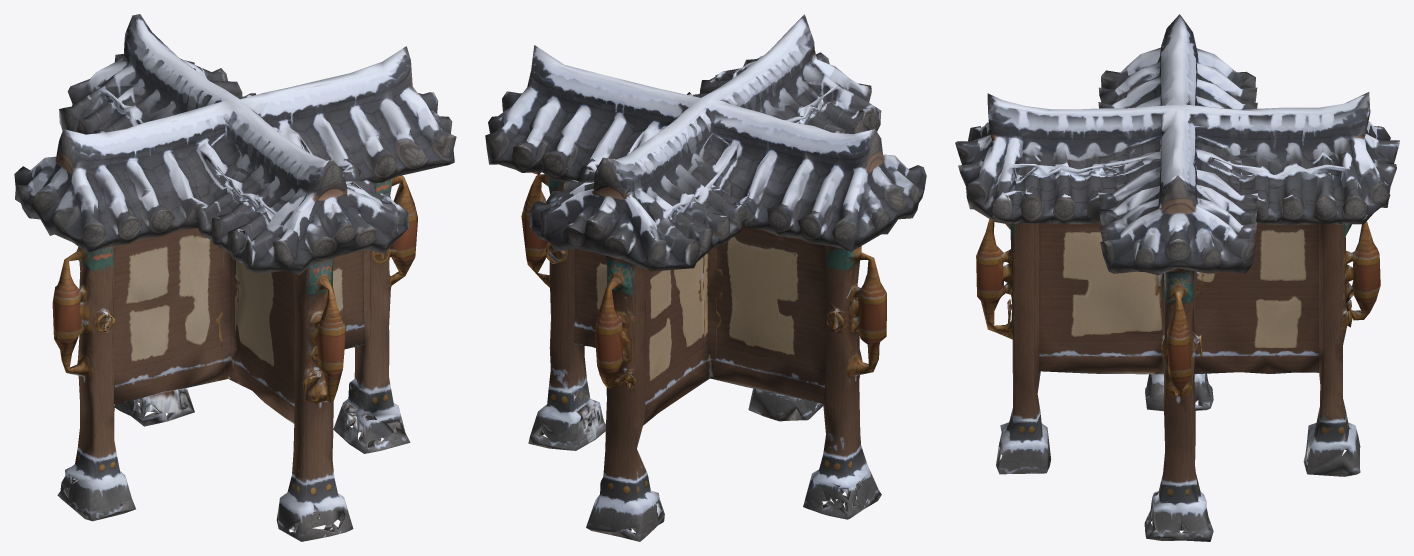
The model's file is PR_GwaeseoBoard.fbx.
3 views of the same model, side by side, from view 1: azimuth 30°, elevation 25°; view 2: azimuth 150°, elevation 25°; view 3: azimuth 270°, elevation 25° (orthographic). The views are drawn at different scales.
Visible parts, largest first — view 1: texture_mapping; view 2: texture_mapping; view 3: texture_mapping.
Part boxes in pixels (x1,y1,x2,y2): texture_mapping: (14,14,456,541); texture_mapping: (485,14,926,541); texture_mapping: (955,14,1399,541).
Bounding box in the file's own units: 1 × 1 × 0.9266.
1 material, 1 textured.
